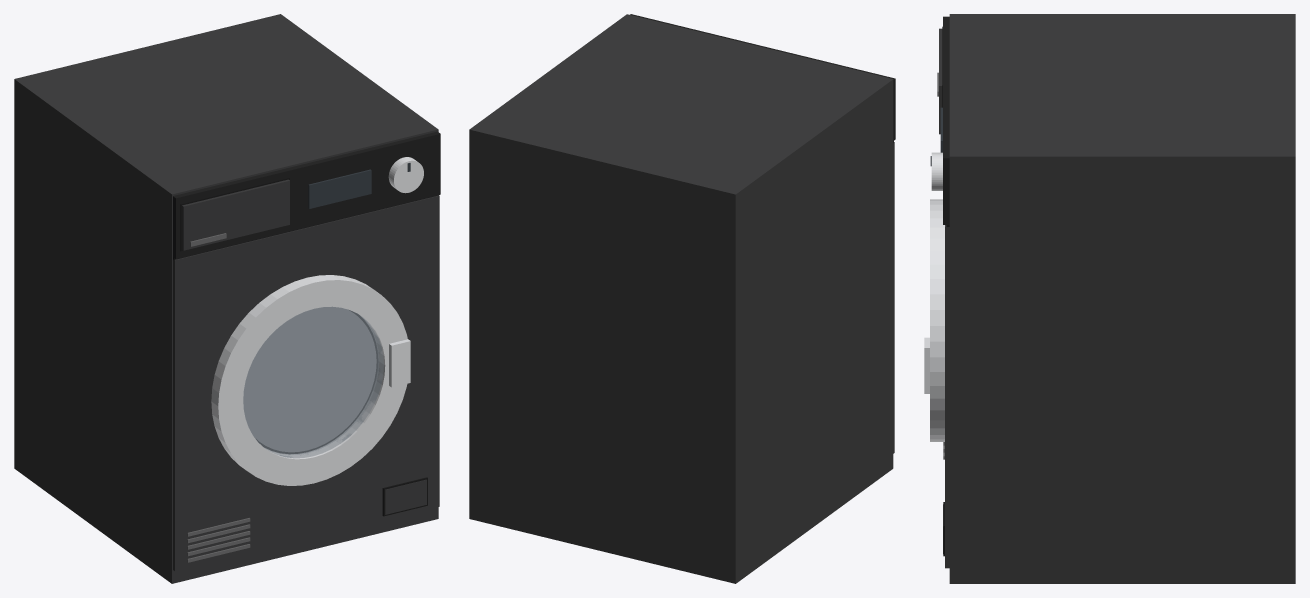
File: trockner-anthrazit.glb
3 renders of one model, left to right at view 1: azimuth 30°, elevation 25°; view 2: azimuth 150°, elevation 25°; view 3: azimuth 270°, elevation 25°, orthographic. The views are drawn at different scales.
Visible parts, largest first — view 1: Gehäuse, Chrom, Glas, Trommel, Bedienblende, Graphit, Display, Fuge; view 2: Gehäuse, Bedienblende; view 3: Gehäuse, Chrom, Bedienblende.
Part boxes in pixels (box(x1,y1,x2,y2)): Gehäuse: box(14, 14, 439, 583); Chrom: box(211, 157, 423, 485); Glas: box(243, 306, 383, 457); Trommel: box(243, 307, 376, 451); Bedienblende: box(173, 131, 440, 258); Graphit: box(187, 233, 250, 562); Display: box(308, 163, 410, 208); Fuge: box(173, 177, 438, 516); Gehäuse: box(469, 14, 894, 583); Bedienblende: box(630, 14, 895, 140); Gehäuse: box(939, 14, 1295, 583); Chrom: box(924, 152, 944, 441); Bedienblende: box(943, 16, 949, 224).
Bounding box in the file's own units: 0.6 × 0.85 × 0.66.
